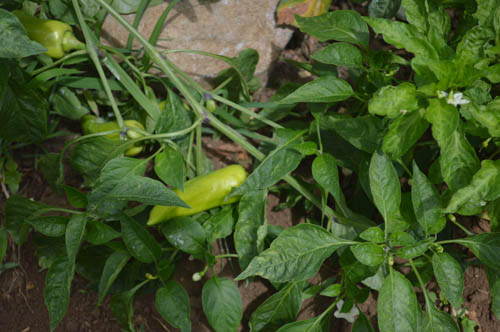ChiliPepper: (139, 164, 254, 230), (15, 15, 73, 58), (84, 118, 147, 156)
